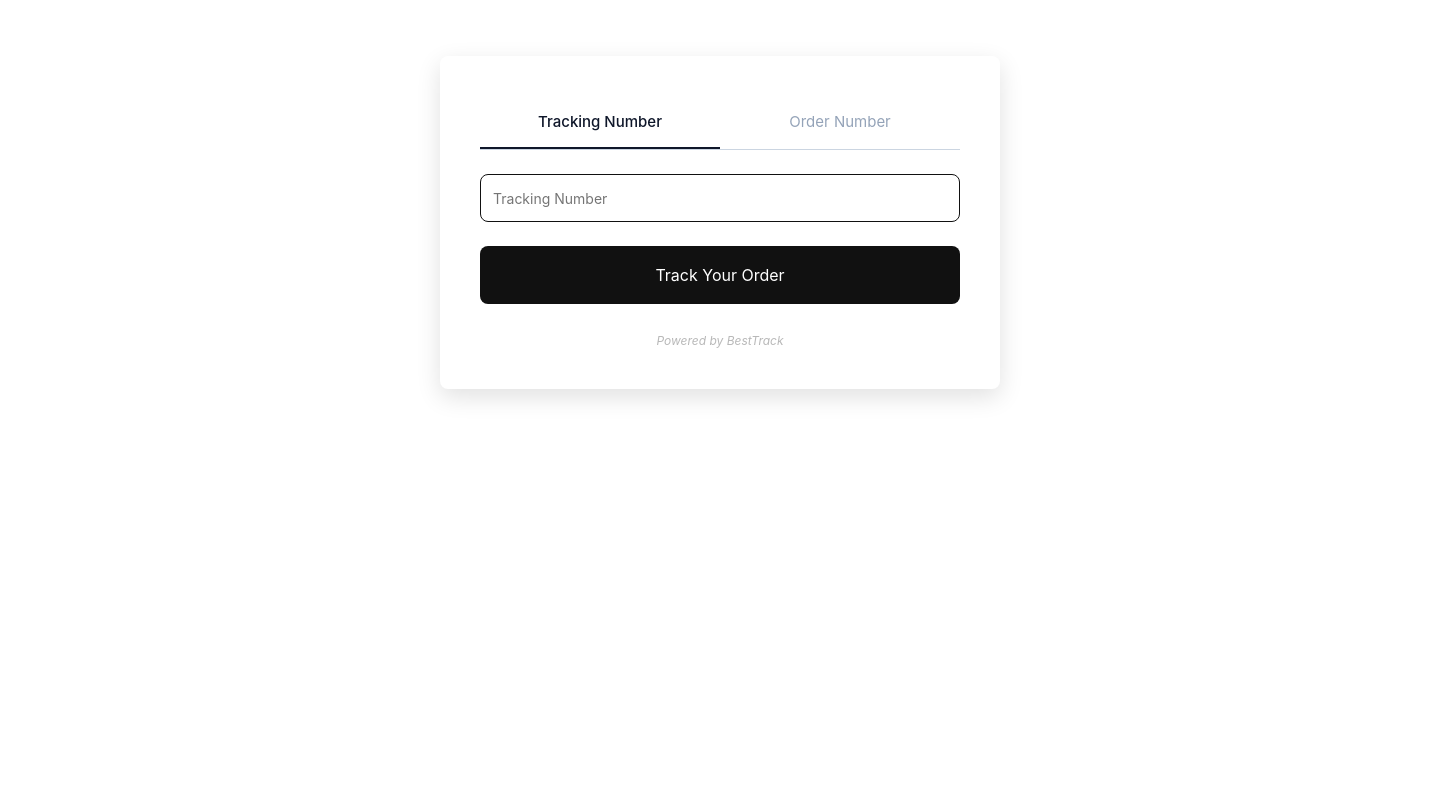
Test: Ready-to-go recent query badges › restores a cached result from a badge without querying again
The width and height of the screenshot is (1440, 810).
Step 1. Type "AAA" into the field labelled "Tracking Number" → (720, 198), box [480, 174, 960, 222]
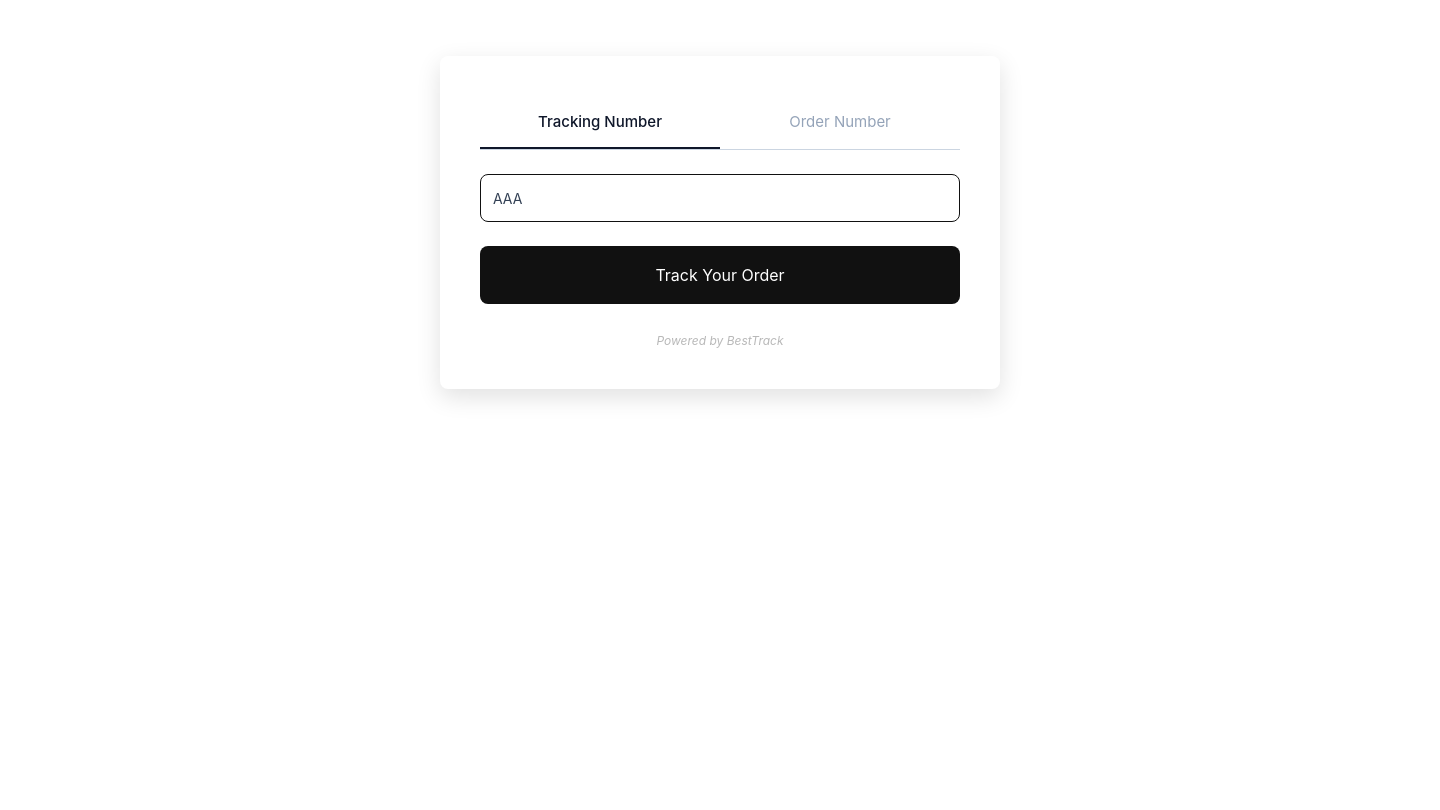
Step 2. Click the button "Track Your Order" → (720, 275), box [480, 246, 960, 304]
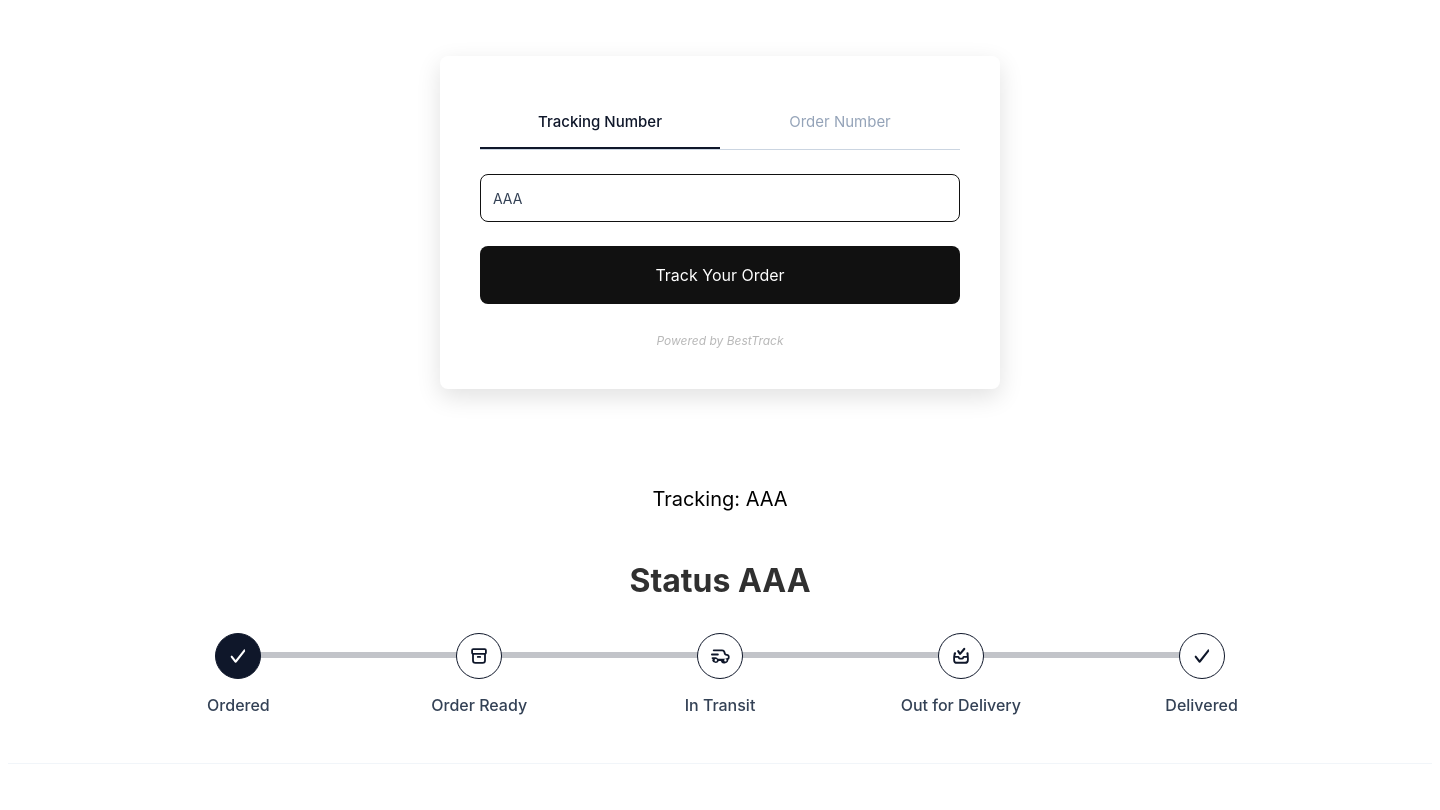
Expected: the heading "Status AAA" is shown, [629, 561, 811, 600]
Step 3. Replace the text in the field named "Tracking Number" with "BBB" → (720, 198), box [480, 174, 960, 222]
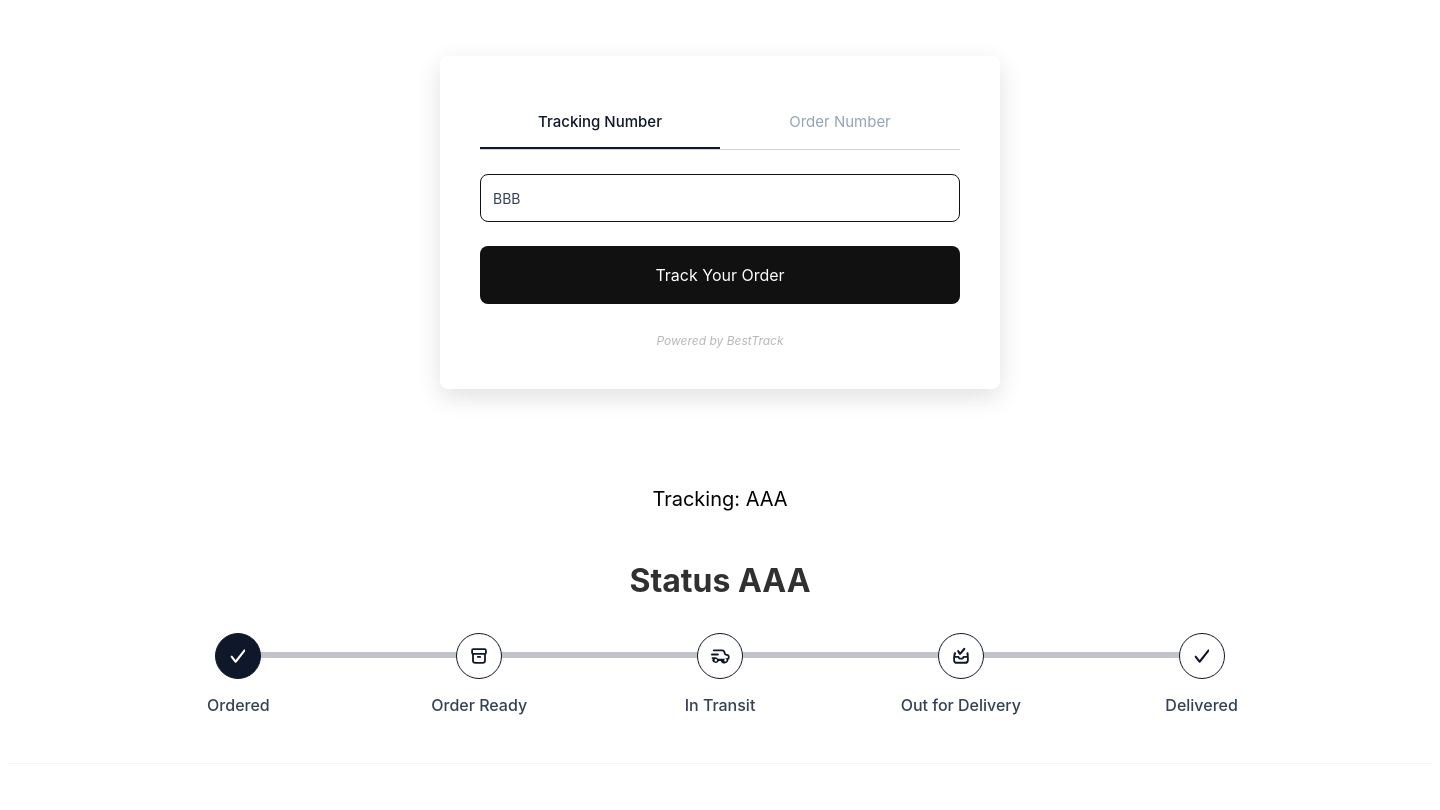
Step 4. Click the button "Track Your Order" → (720, 275), box [480, 246, 960, 304]
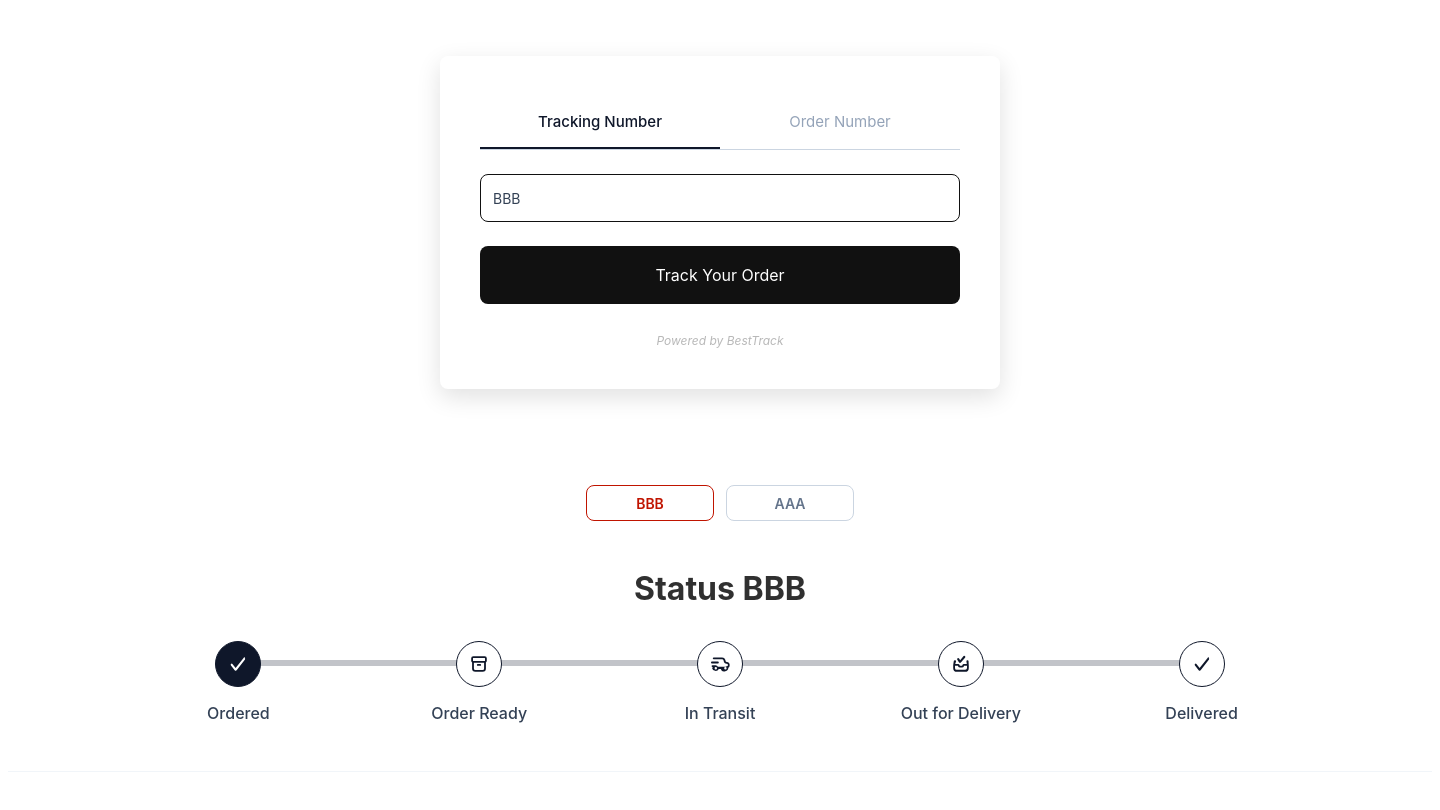
Expected: the heading "Status BBB" is shown, [634, 569, 806, 608]
Step 5. Click the button "AAA" → (790, 503), box [726, 485, 854, 521]
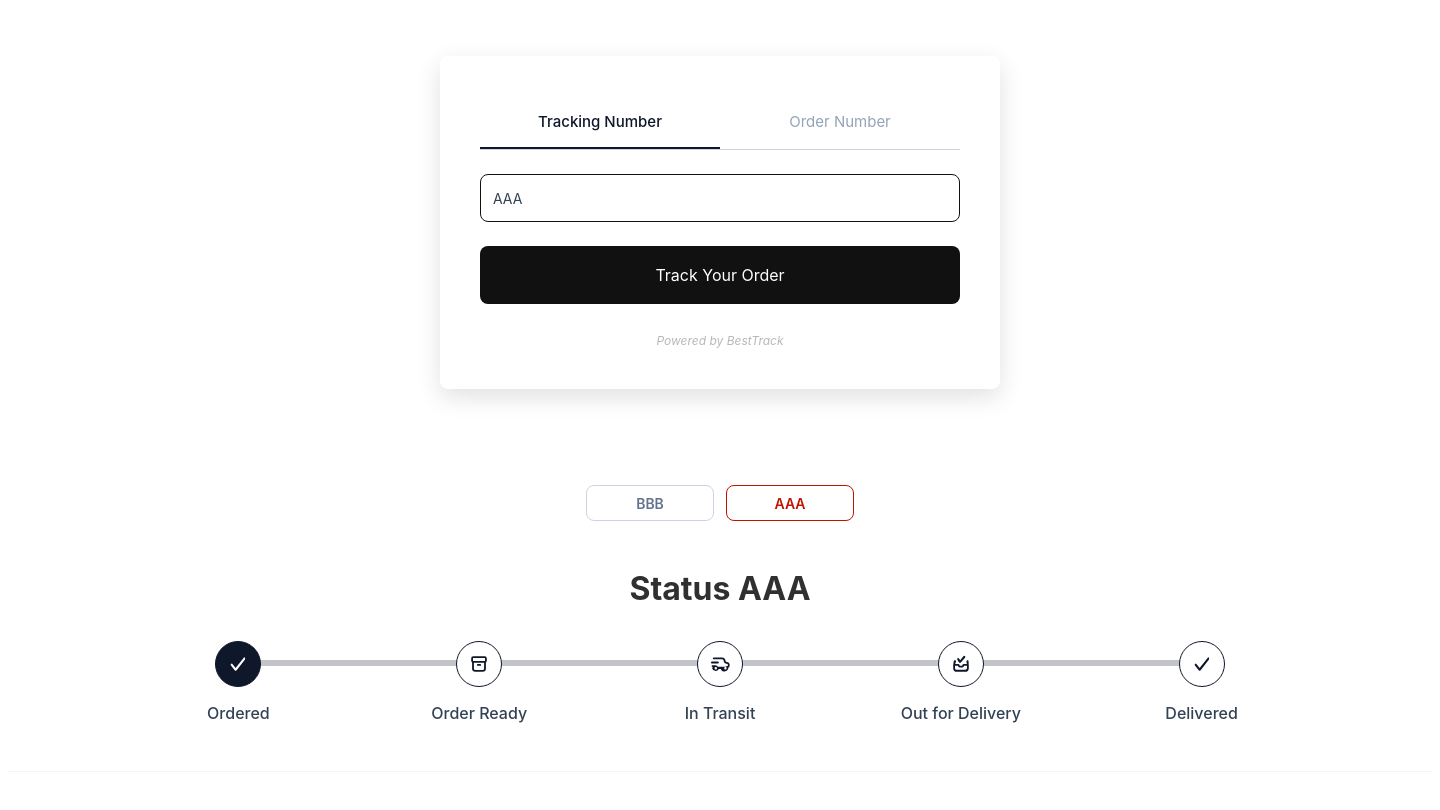
Expected: the heading "Status AAA" is shown, [629, 569, 811, 608]
